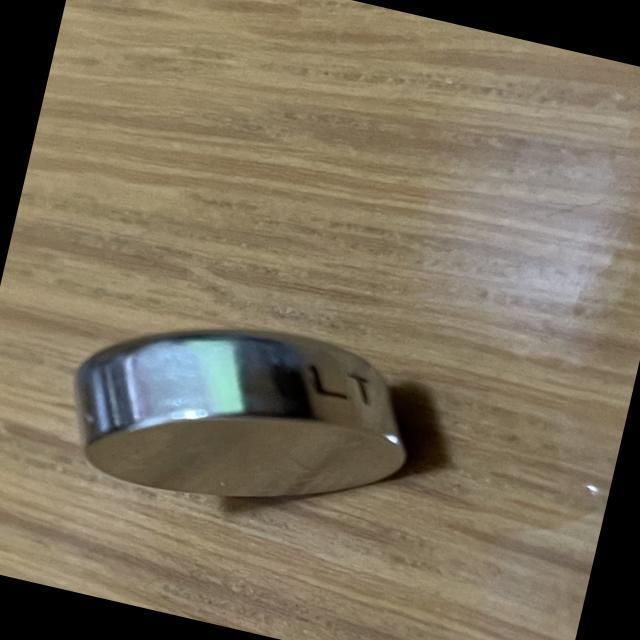COIN: (52, 289, 436, 545)
